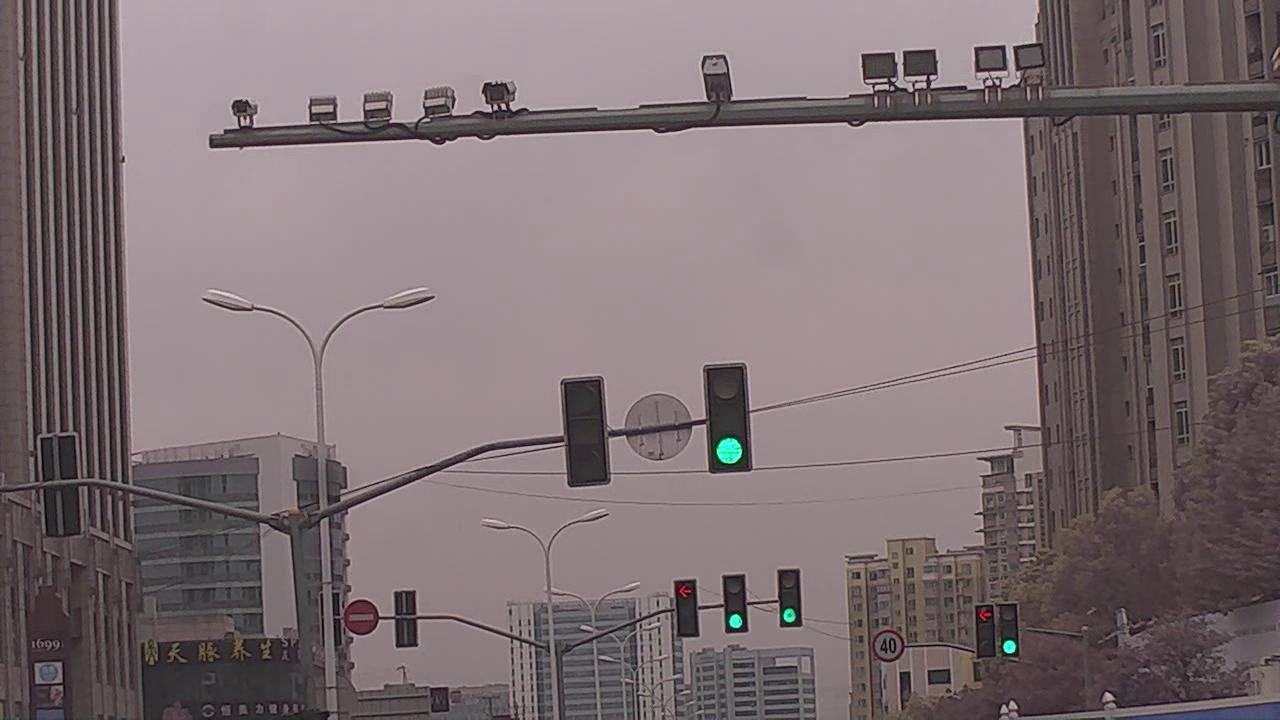traffic_light: (703, 364, 755, 475), (561, 377, 612, 487), (723, 575, 749, 635), (674, 580, 700, 638), (778, 568, 801, 627), (999, 599, 1021, 660), (976, 602, 996, 658)
